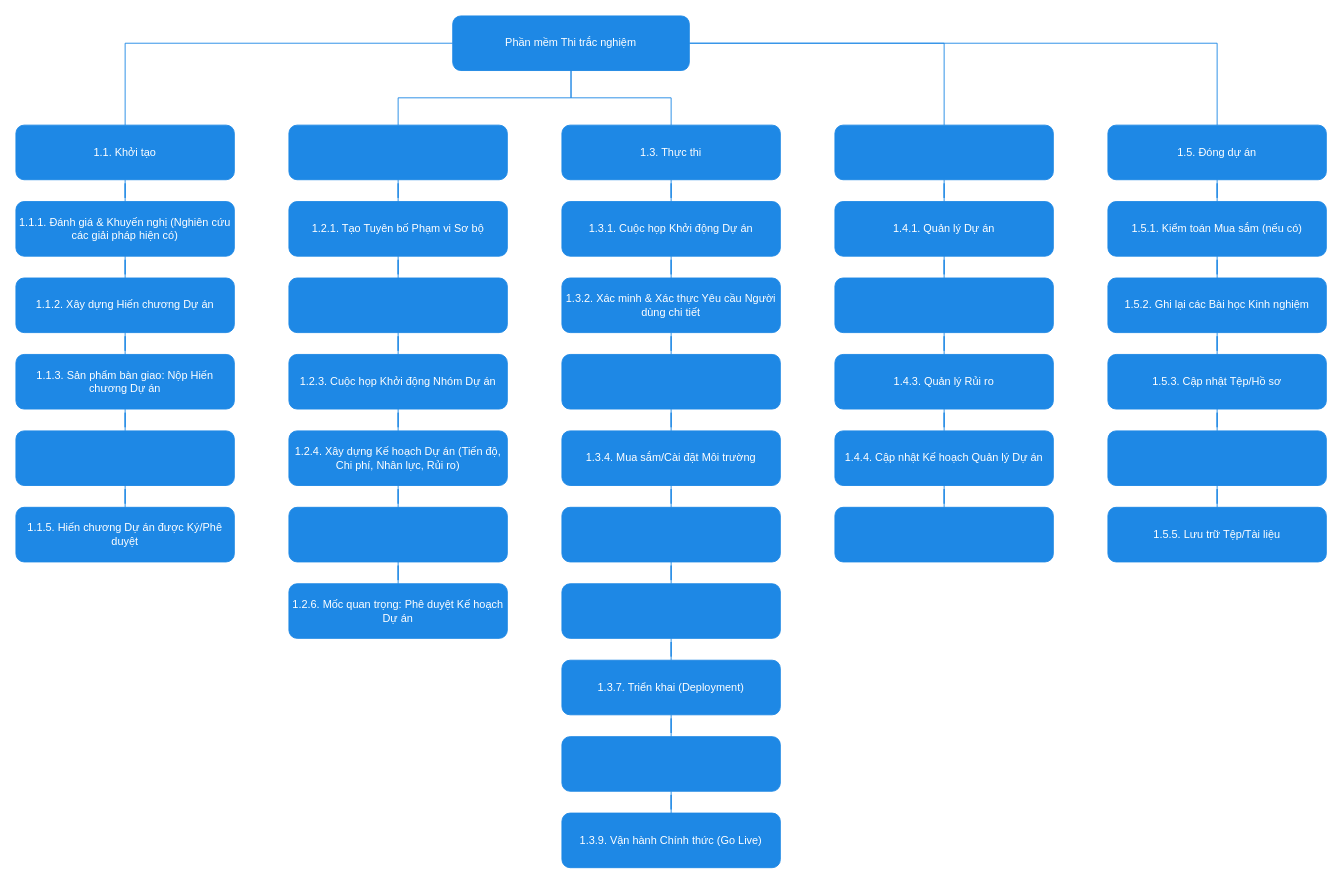
The diagram is 1342 pixels wide and 884 high, and some of its shapes have lost their labels. The shapes that lost their labels are listed below. From the top down, each one's centre as x and y in pixels, then its label:
At pixel 397 152: "1.2. Lập kế hoạch".
At pixel 943 152: "1.4. Kiểm soát".
At pixel 397 305: "1.2.2. Xác định Nhóm Dự án (BA, Dev, QA, PM)".
At pixel 943 305: "1.4.2. Các cuộc họp về Tình trạng Dự án".
At pixel 670 381: "1.3.3. Thiết kế Hệ thống".
At pixel 124 457: "1.1.4. Nhà tài trợ Dự án Xem xét Hiến chương Dự án".
At pixel 1216 457: "1.5.4. Nhận Phê duyệt Chính thức/Nghiệm thu".
At pixel 397 534: "1.2.5. Nộp Kế hoạch Dự án".
At pixel 670 534: "1.3.5. Lập trình & Phát triển".
At pixel 943 534: "1.4.5. Quản lý Chất lượng (QA)".
At pixel 670 610: "1.3.6. Kiểm thử Hệ thống".
At pixel 670 763: "1.3.8. Đào tạo Người dùng (Cho Giáo viên, Cán bộ, Sinh viên)".
